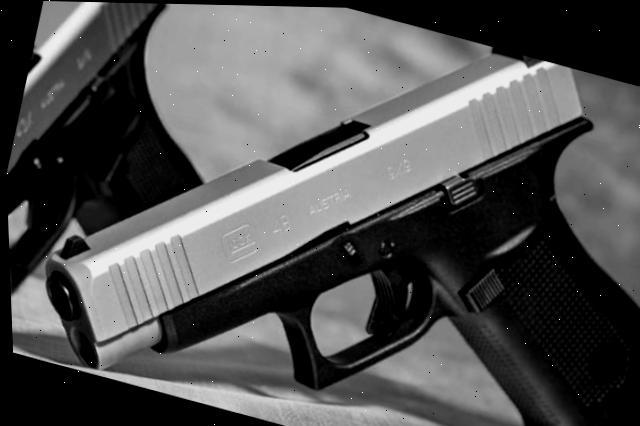pistol: (16, 0, 640, 426)
